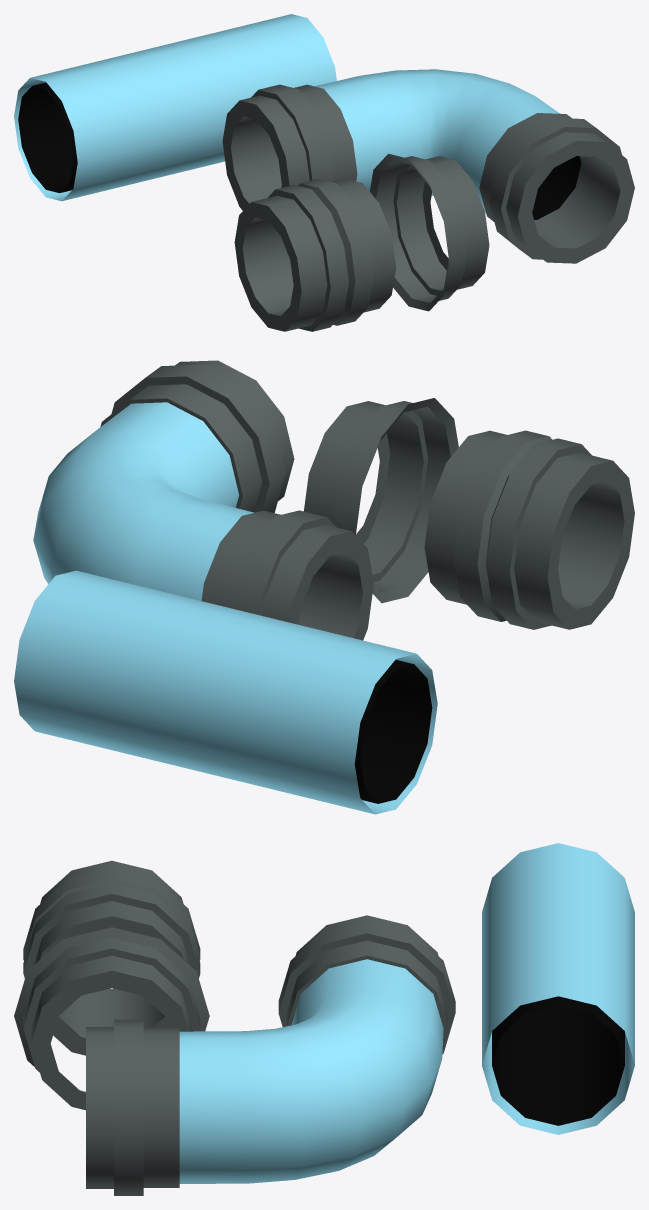
File: Pipe_parts.fbx
3 views of the same model, one above another, from view 1: azimuth 30°, elevation 25°; view 2: azimuth 150°, elevation 25°; view 3: azimuth 270°, elevation 25° (orthographic). The views are drawn at different scales.
Visible parts, largest first — view 1: WaterTube_Bend, WaterTube_Straight13, WaterTube_Connector, WaterTube_Connector_Wall; view 2: WaterTube_Straight13, WaterTube_Bend, WaterTube_Connector, WaterTube_Connector_Wall; view 3: WaterTube_Bend, WaterTube_Straight13, WaterTube_Connector, WaterTube_Connector_Wall.
Boxes of the visible parts, x1,y1,x2,y2 form: WaterTube_Bend: [222, 69, 634, 263]; WaterTube_Straight13: [14, 14, 336, 201]; WaterTube_Connector: [234, 179, 396, 331]; WaterTube_Connector_Wall: [370, 153, 489, 311]; WaterTube_Straight13: [14, 570, 437, 814]; WaterTube_Bend: [33, 360, 373, 640]; WaterTube_Connector: [424, 430, 634, 629]; WaterTube_Connector_Wall: [303, 398, 458, 603]; WaterTube_Bend: [86, 915, 455, 1195]; WaterTube_Straight13: [482, 843, 634, 1134]; WaterTube_Connector: [23, 860, 200, 1055]; WaterTube_Connector_Wall: [14, 927, 209, 1110].
Size of the model in its own units: 0.4318 by 0.1535 by 0.4867.
